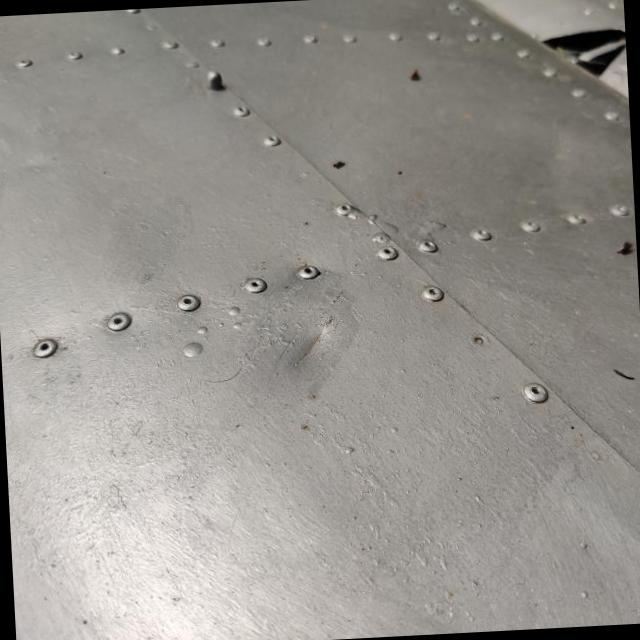Dent: (239, 281, 358, 401)
